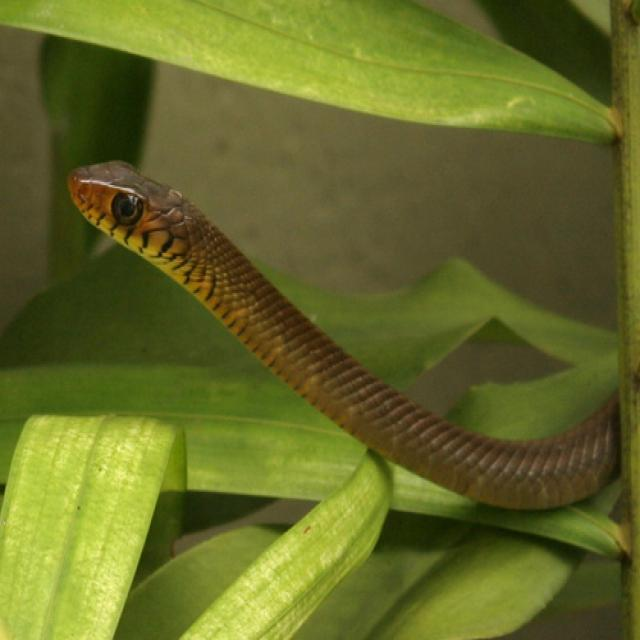Snake: (64, 154, 636, 514)
